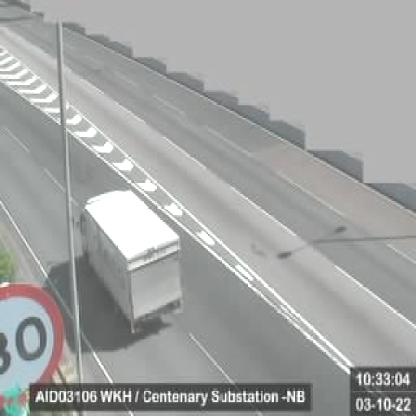Truck: (80, 187, 180, 330)
